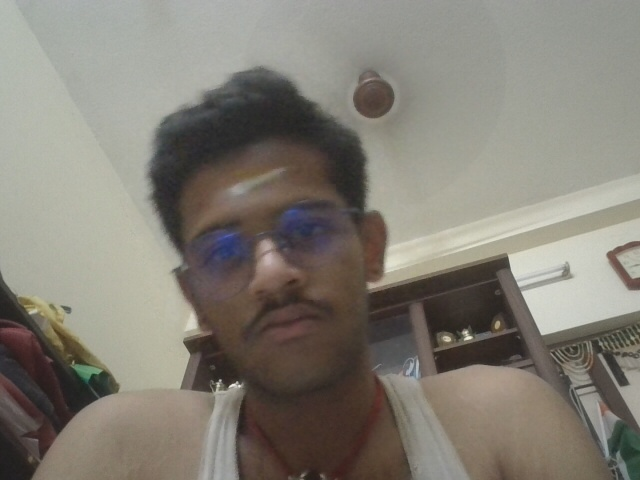real: (149, 145, 387, 383)
